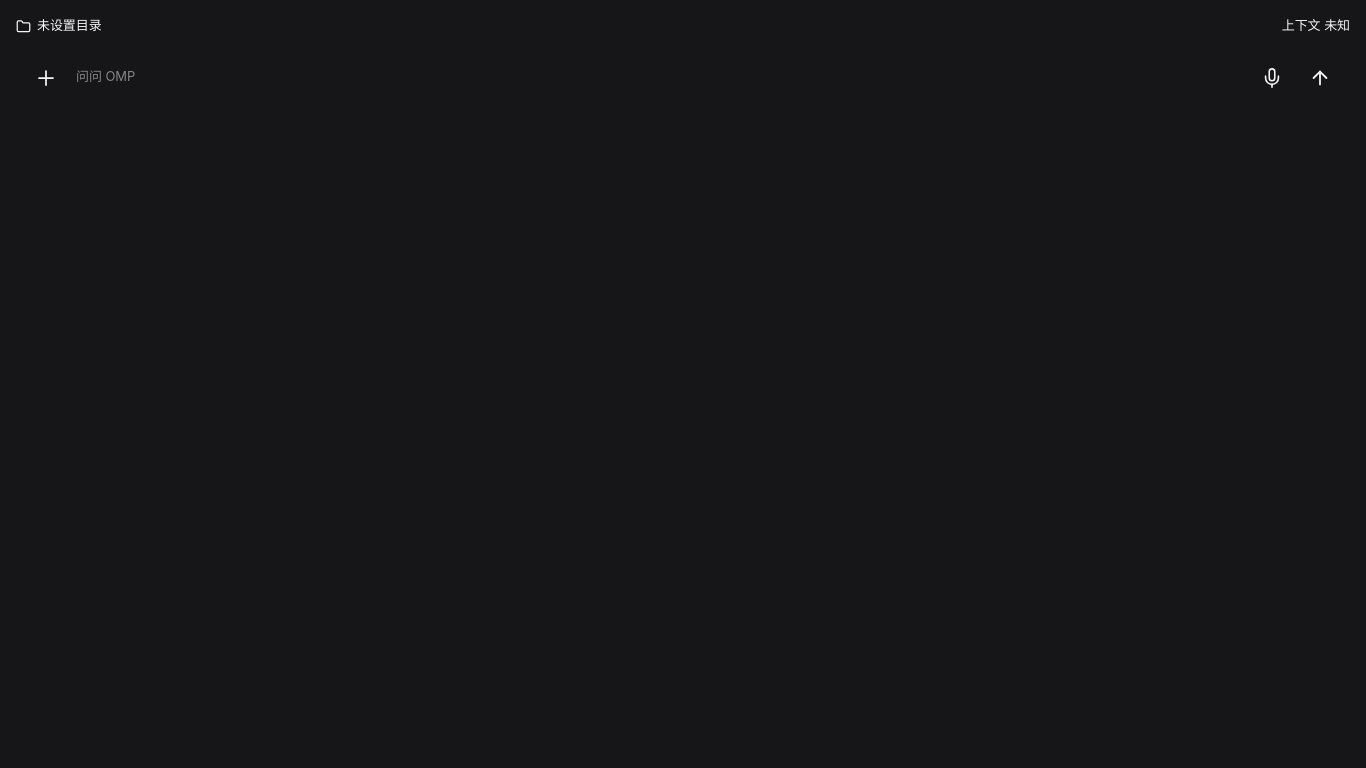
Scenario: Plus (+) menu 6 desktop options (Change 3) › displays exact 6 desktop options: 文件, Finder 选中项, 在项目中工作, 目标, 规划模式, 草图
What coordinates should you click on to do the following:
click the button named "添加"
I would click on:
 (46, 78)
Its box is [24, 56, 68, 100].
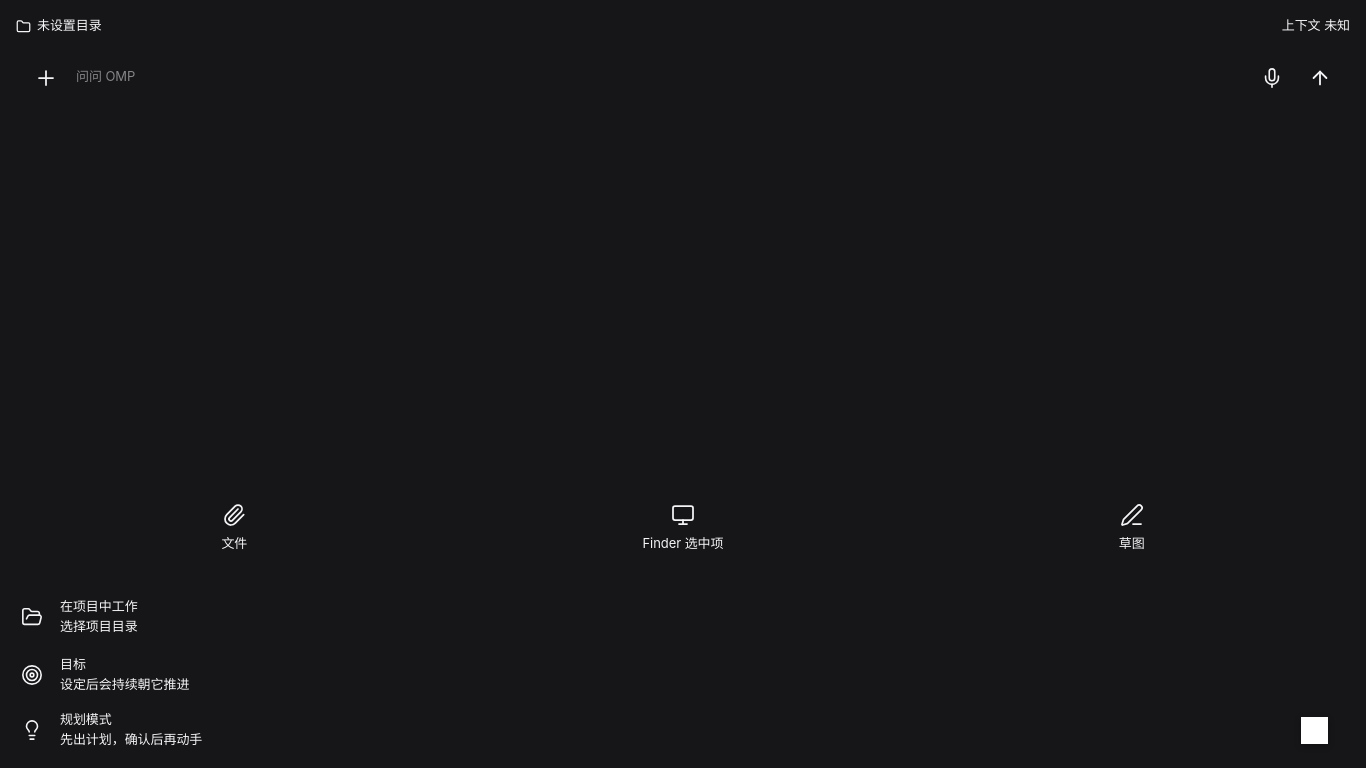
Check: the button "文件" is shown, box [16, 480, 453, 576]
Check: the button "Finder 选中项" is shown, box [465, 480, 901, 576]
Check: the text "在项目中工作" is shown, box [60, 598, 138, 614]
